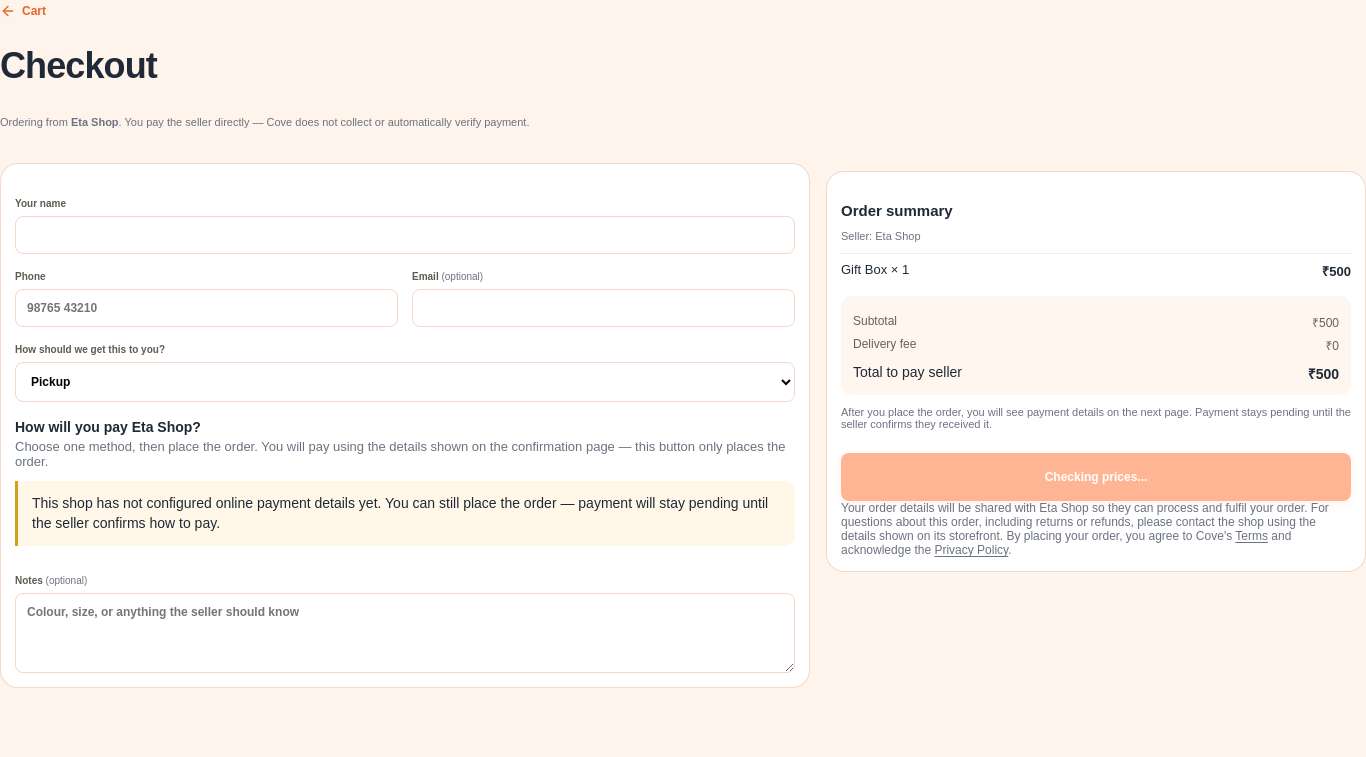
Test: checkout estimated delivery › shows the estimate only when the shopper chooses delivery
Expected: the text "Estimated delivery" is not shown
Select "Delivery" in the dropdown named "deliveryMethod": (405, 382) [15,362,795,402]
(page scrolled)
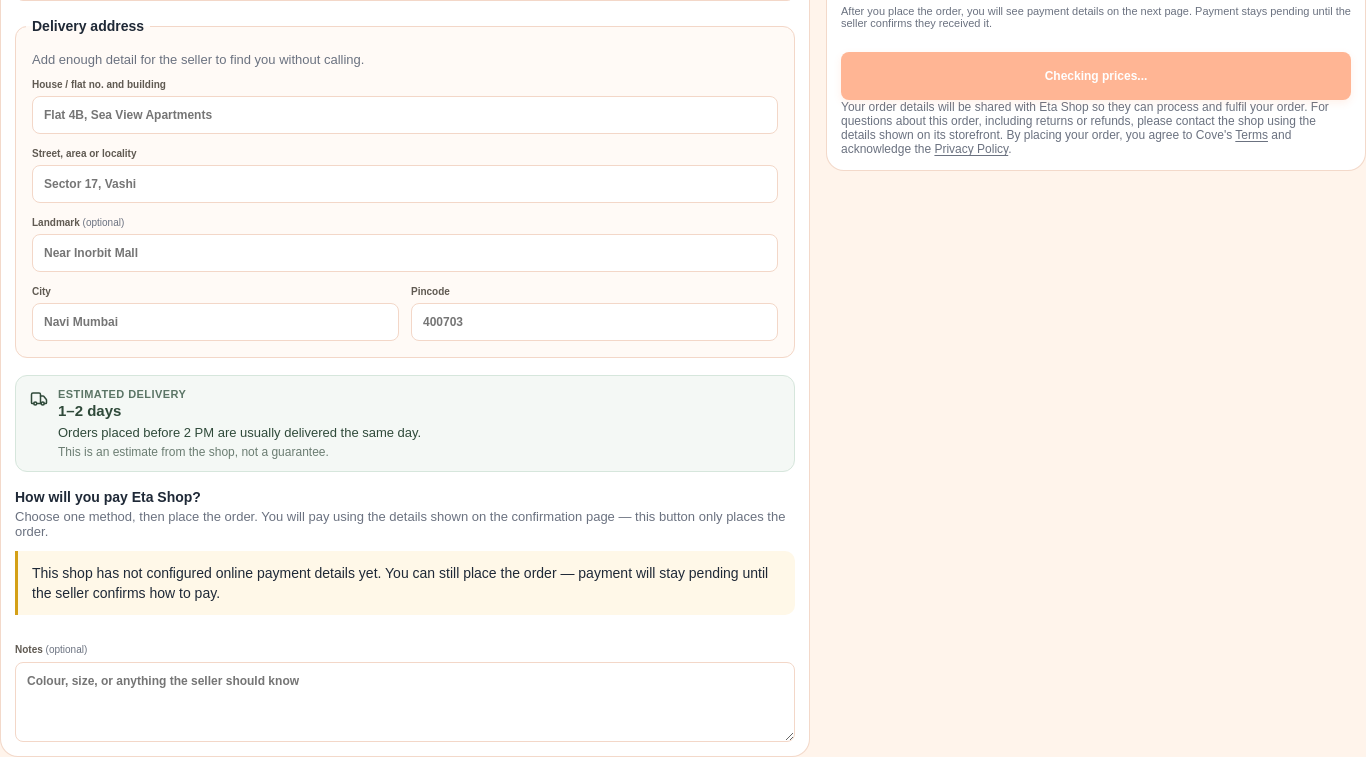
Expected: the text "Estimated delivery" is shown, [58,388,186,400]
Expected: the text "1–2 days" is shown, [58,402,121,419]
Expected: the text "Orders placed before 2 PM are usually delivered the same day." is shown, [58,423,421,442]
